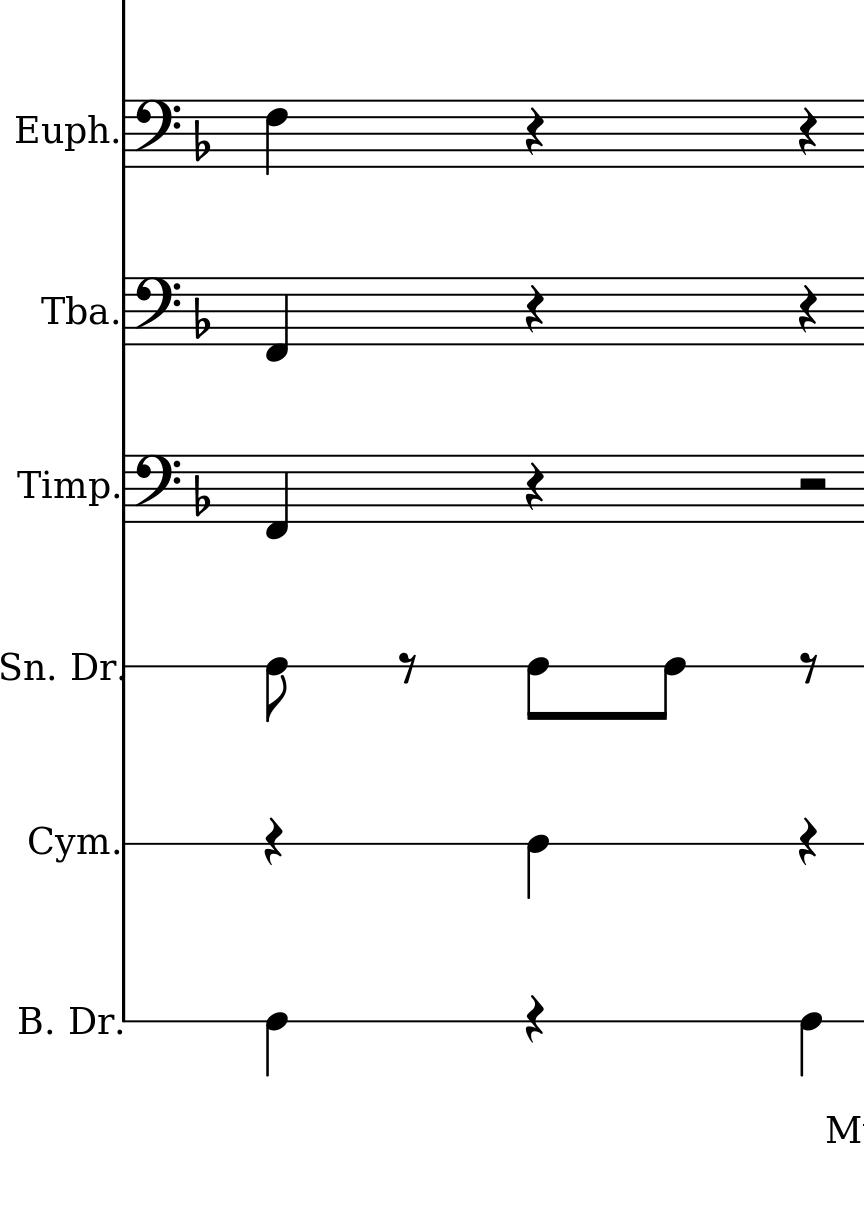4_-1: (264, 275, 293, 361), (265, 453, 291, 539)
4_4: (798, 1010, 823, 1079), (263, 1009, 288, 1078)
4_6: (264, 99, 291, 179)
8_4: (657, 656, 686, 722), (264, 655, 288, 723), (526, 655, 549, 722)
Euph: (13, 112, 109, 154)
Flat: (134, 96, 182, 170), (129, 454, 178, 523), (134, 275, 181, 345), (191, 116, 211, 163), (191, 472, 211, 517), (192, 295, 211, 341)
Rests2: (796, 476, 829, 492)
Rests4: (521, 279, 546, 335), (522, 461, 547, 513), (798, 284, 819, 333), (524, 106, 546, 152), (797, 815, 817, 865), (524, 994, 544, 1043), (798, 107, 818, 156), (262, 818, 282, 867)
Rests8: (395, 648, 417, 687), (798, 649, 820, 685)
Single_barline: (115, 279, 133, 345), (115, 103, 132, 170), (115, 457, 132, 523)
Tba: (39, 290, 105, 329)
Timp: (14, 465, 111, 511)
